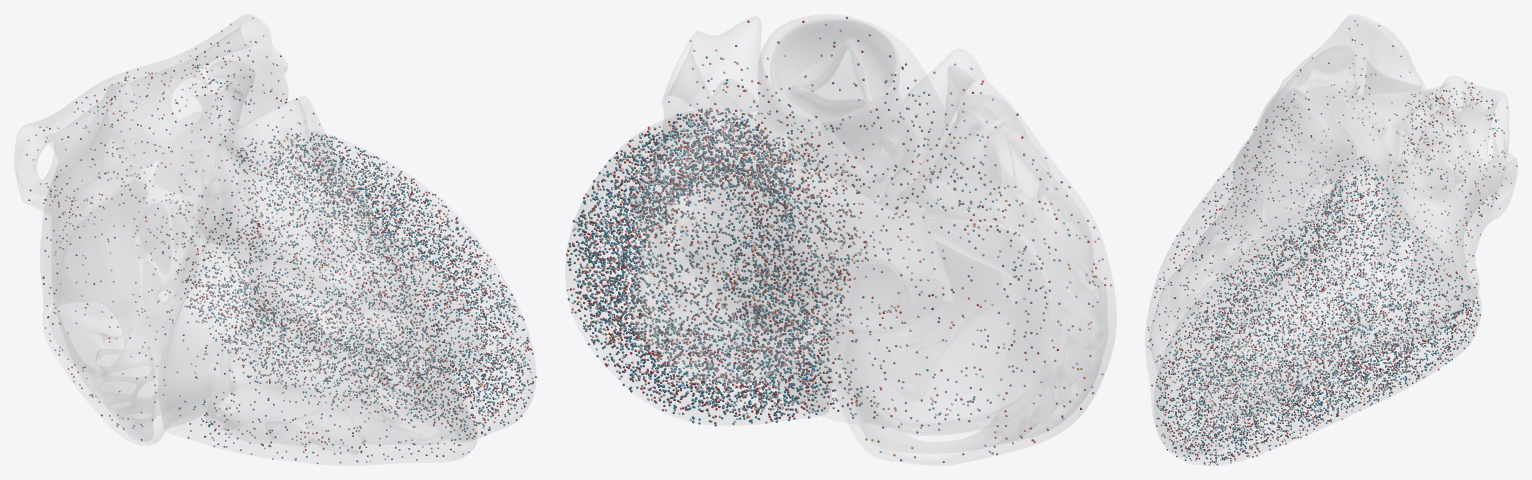
File: 3d-vh-m-heart-UBERON_0000948-all-as-celltypist-sphere-hra-pop.glb
3 views of the same model, side by side, from view 1: azimuth 30°, elevation 25°; view 2: azimuth 150°, elevation 25°; view 3: azimuth 270°, elevation 25° (orthographic). The views are drawn at different scales.
Visible parts, largest first — view 1: VH_M_heart_right_ventricle, VH_M_right_cardiac_atrium, VH_M_left_cardiac_atrium, VH_M_heart_left_ventricle, VH_M_tricuspid_valve, VH_M_pulmonary_valve, VH_M_aortic_valve, VH_M_papillary_muscle_of_heart_anterior, VH_M_interventricular_septum; view 2: VH_M_right_cardiac_atrium, VH_M_left_cardiac_atrium, VH_M_heart_right_ventricle, VH_M_mitral_valve, VH_M_heart_left_ventricle, VH_M_pulmonary_valve, VH_M_tricuspid_valve, VH_M_aortic_valve, VH_M_papillary_muscle_of_heart_posteromedial; view 3: VH_M_heart_left_ventricle, VH_M_heart_right_ventricle, VH_M_left_cardiac_atrium, VH_M_right_cardiac_atrium, VH_M_pulmonary_valve, VH_M_papillary_muscle_of_heart_anterolateral, VH_M_mitral_valve, VH_M_interventricular_septum, VH_M_aortic_valve, VH_M_papillary_muscle_of_heart_posteromedial, VH_M_tricuspid_valve.
Boxes of the visible parts, x1,y1,x2,y2 form: VH_M_heart_right_ventricle: (162, 96, 476, 465); VH_M_right_cardiac_atrium: (40, 83, 215, 445); VH_M_left_cardiac_atrium: (14, 14, 287, 214); VH_M_heart_left_ventricle: (195, 131, 535, 441); VH_M_tricuspid_valve: (157, 242, 251, 430); VH_M_pulmonary_valve: (220, 100, 308, 179); VH_M_aortic_valve: (167, 116, 240, 209); VH_M_papillary_muscle_of_heart_anterior: (283, 355, 365, 397); VH_M_interventricular_septum: (208, 194, 477, 442); VH_M_right_cardiac_atrium: (825, 49, 1116, 465); VH_M_left_cardiac_atrium: (631, 16, 953, 382); VH_M_heart_right_ventricle: (754, 14, 1020, 435); VH_M_mitral_valve: (641, 184, 820, 382); VH_M_heart_left_ventricle: (565, 110, 831, 425); VH_M_pulmonary_valve: (771, 19, 899, 118); VH_M_tricuspid_valve: (851, 219, 1014, 431); VH_M_aortic_valve: (787, 113, 898, 200); VH_M_papillary_muscle_of_heart_posteromedial: (694, 262, 733, 311); VH_M_heart_left_ventricle: (1154, 153, 1481, 465); VH_M_heart_right_ventricle: (1145, 86, 1356, 456); VH_M_left_cardiac_atrium: (1352, 76, 1517, 292); VH_M_right_cardiac_atrium: (1233, 14, 1434, 191); VH_M_pulmonary_valve: (1274, 88, 1354, 173); VH_M_papillary_muscle_of_heart_anterolateral: (1251, 234, 1380, 364); VH_M_mitral_valve: (1377, 166, 1475, 302); VH_M_interventricular_septum: (1171, 167, 1384, 388); VH_M_aortic_valve: (1334, 119, 1400, 186); VH_M_papillary_muscle_of_heart_posteromedial: (1257, 313, 1374, 373); VH_M_tricuspid_valve: (1248, 188, 1317, 229).
Bounding box in the file's own units: 0.1244 × 0.1054 × 0.1052.
